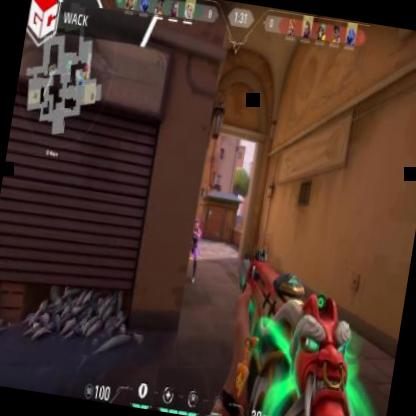enemy: (179, 218, 204, 282)
enemy_head: (192, 218, 200, 230)
